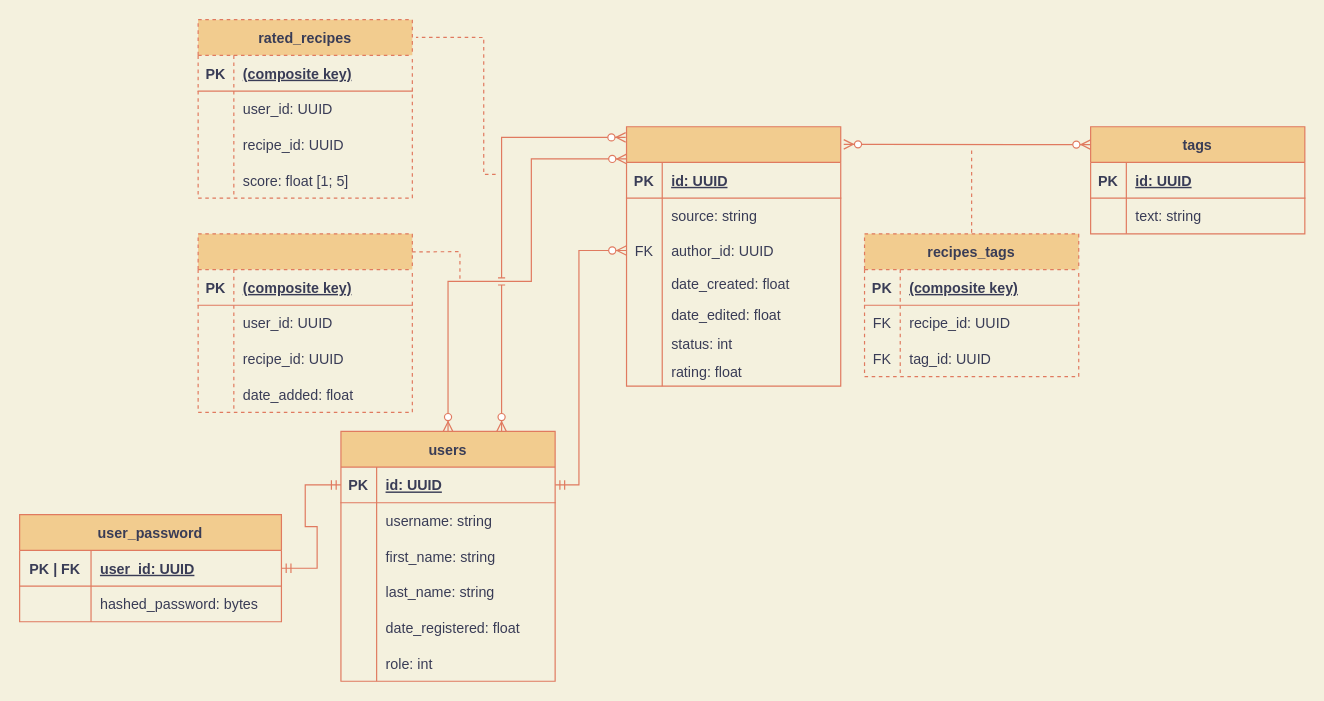
The diagram is 1324 pixels wide and 701 high, and some of its shapes have lost their labels. The box of each missing label's shape, as (x1, y1, x2, y2) in pixels:
bookmarked_recipes: (197, 233, 412, 412)
recipes: (625, 126, 841, 386)
